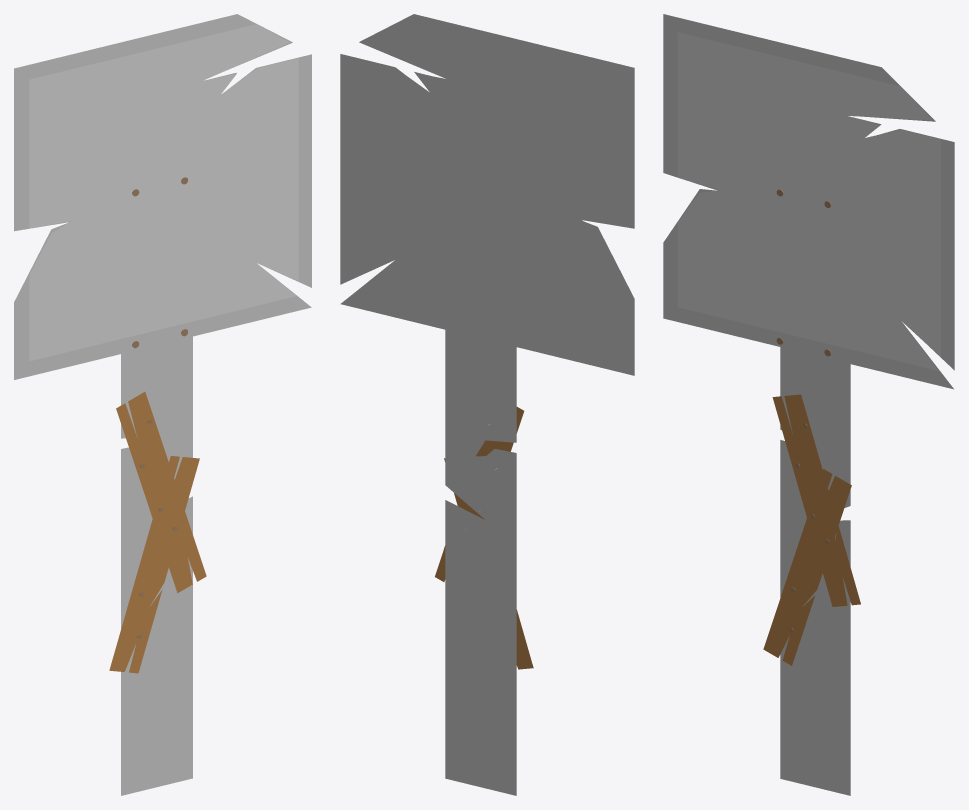
The model's file is Sign.glb.
The picture shows the model from 3 angles, left to right: view 1: azimuth 30°, elevation 25°; view 2: azimuth 150°, elevation 25°; view 3: azimuth 330°, elevation 25°; orthographic projection. The views are drawn at different scales.
Parts seen in each view (by area): view 1: Plane, Cube, Cube.001, Plane.002, Plane.001; view 2: Cube.001, Cube, Plane.001, Plane.002; view 3: Plane, Cube, Cube.001, Plane.002, Plane.001.
Boxes of the visible parts, x1=… form: Plane: x1=29, y1=24, x2=298, y2=361; Cube: x1=121, y1=336, x2=192, y2=795; Cube.001: x1=14, y1=14, x2=311, y2=379; Plane.002: x1=109, y1=456, x2=199, y2=673; Plane.001: x1=116, y1=392, x2=206, y2=593; Cube.001: x1=340, y1=14, x2=634, y2=375; Cube: x1=445, y1=154, x2=516, y2=795; Plane.001: x1=435, y1=407, x2=524, y2=581; Plane.002: x1=444, y1=458, x2=533, y2=669; Plane: x1=677, y1=32, x2=940, y2=370; Cube: x1=780, y1=347, x2=850, y2=795; Cube.001: x1=663, y1=14, x2=954, y2=389; Plane.002: x1=763, y1=469, x2=851, y2=665; Plane.001: x1=772, y1=394, x2=860, y2=606.
Size of what is drawn, in the model's own units: 2 by 4.87 by 0.1257.
